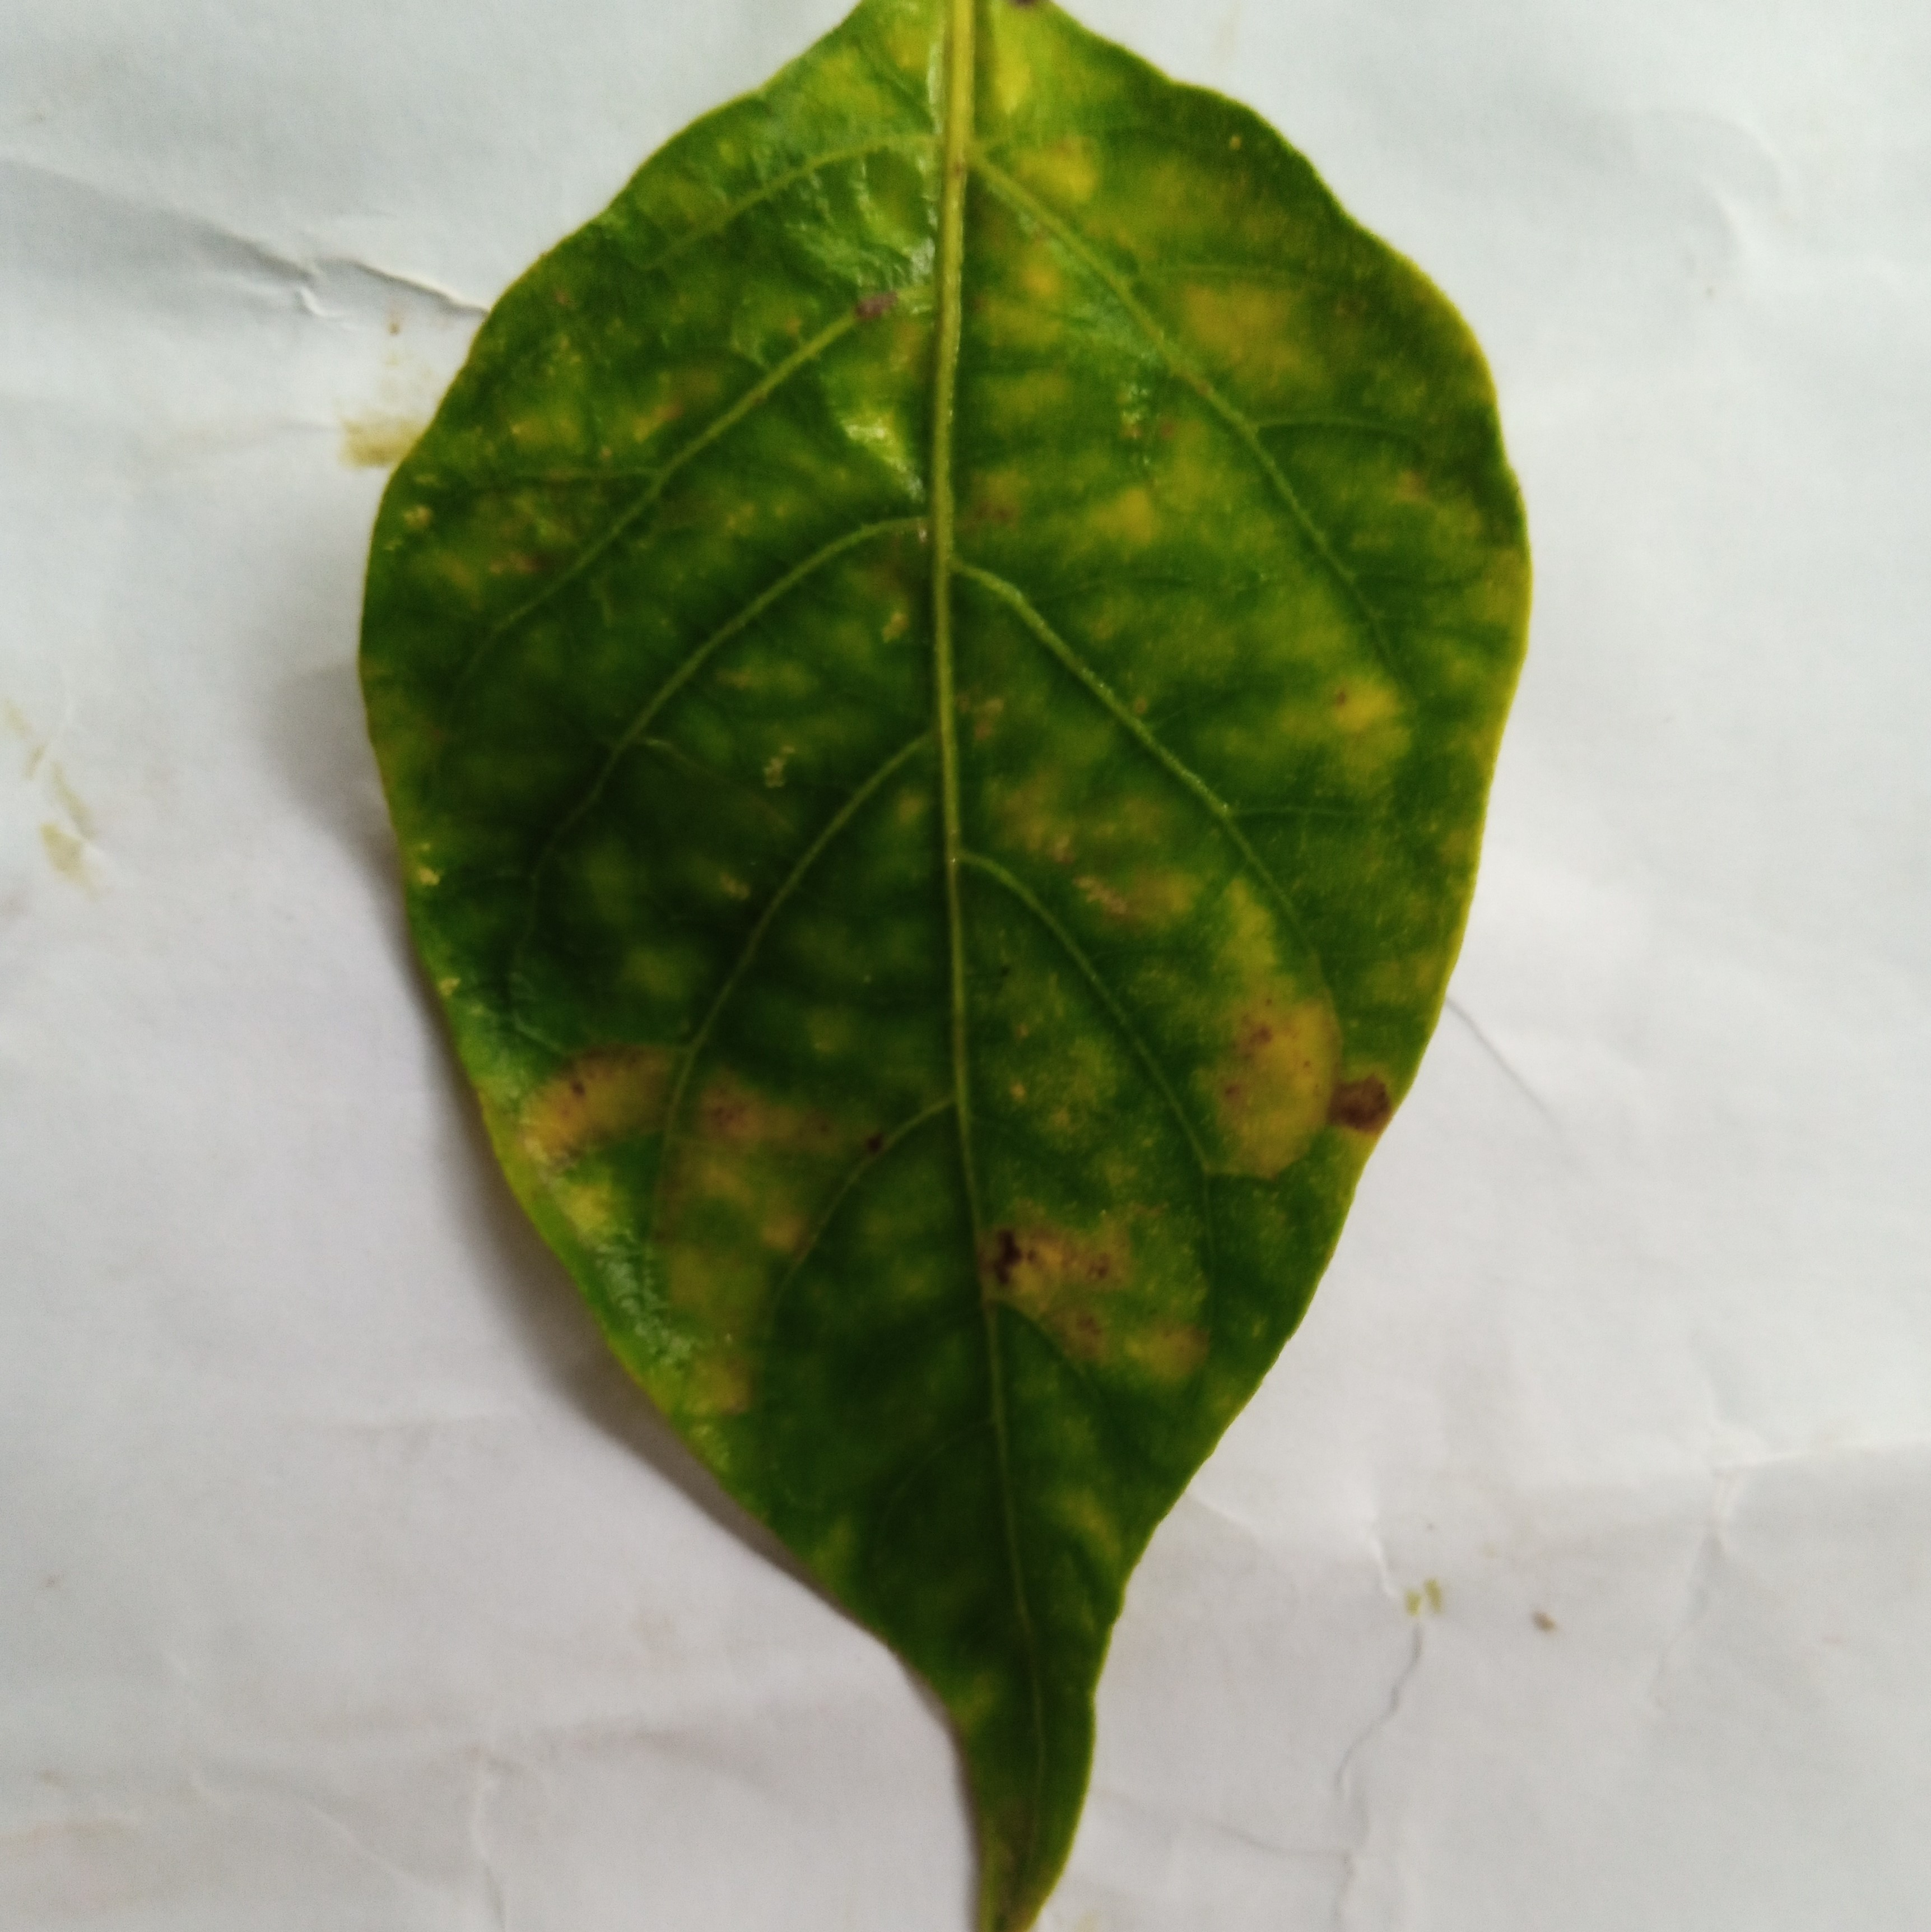Leaf: (233, 16, 1643, 1932)
